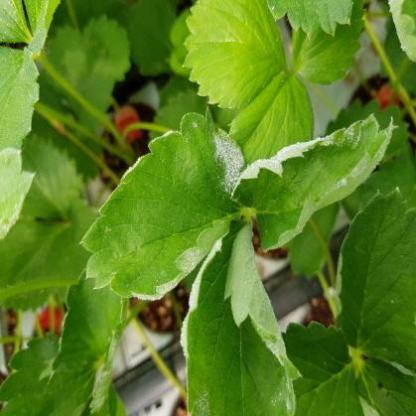Strawberry_Powdery_Mildew_Leaf: (79, 106, 252, 302), (178, 214, 302, 415), (230, 112, 400, 254), (46, 268, 128, 414)
